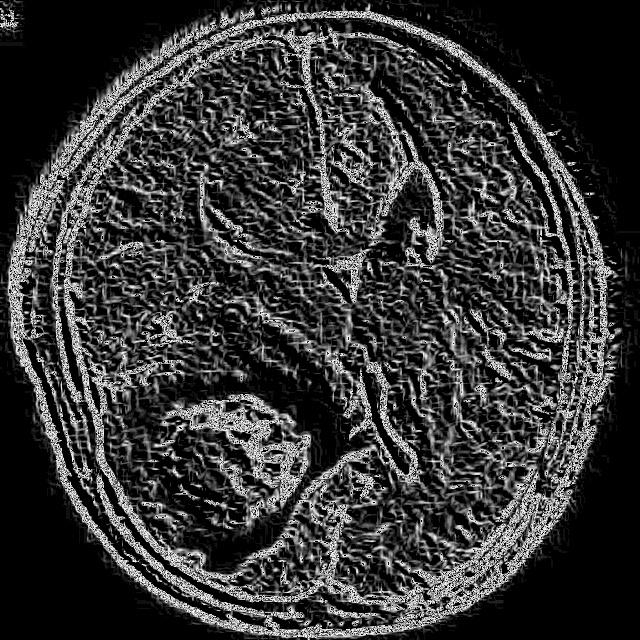Brain-Tumor: (109, 332, 375, 581)
